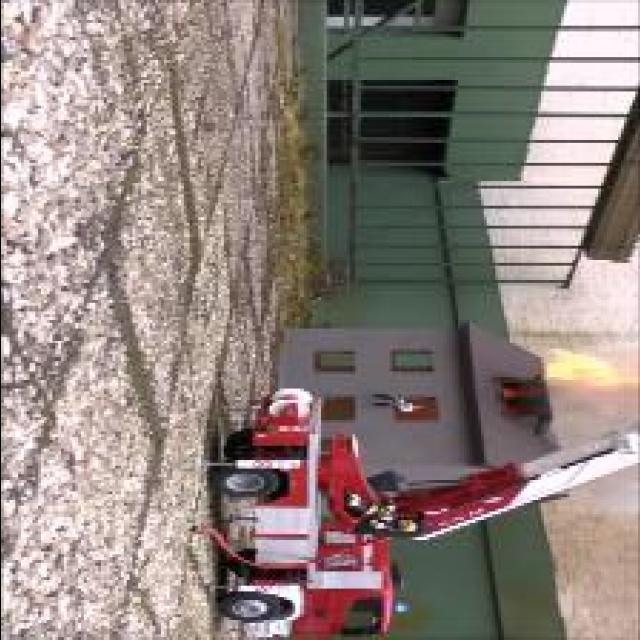Fire: (544, 351, 638, 386)
